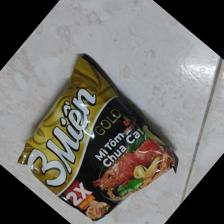3mien: (14, 51, 179, 223)
